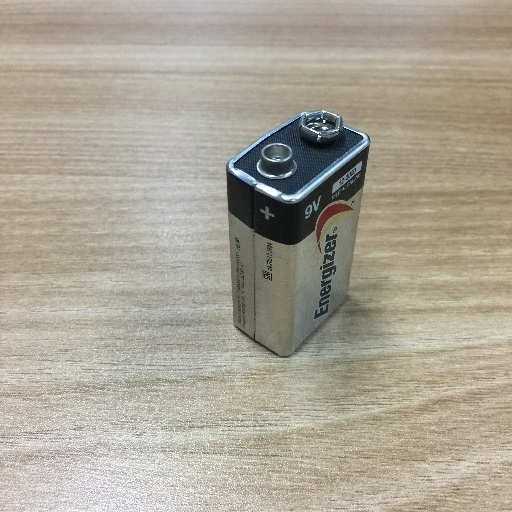Battery_3: (207, 91, 396, 384)
